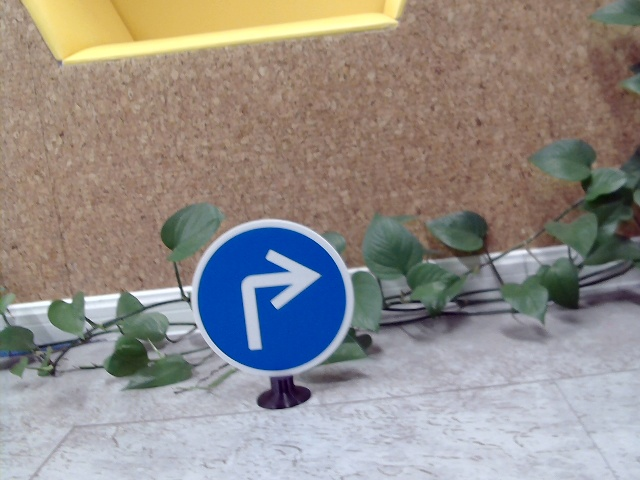turn_right: (235, 247, 321, 354)
